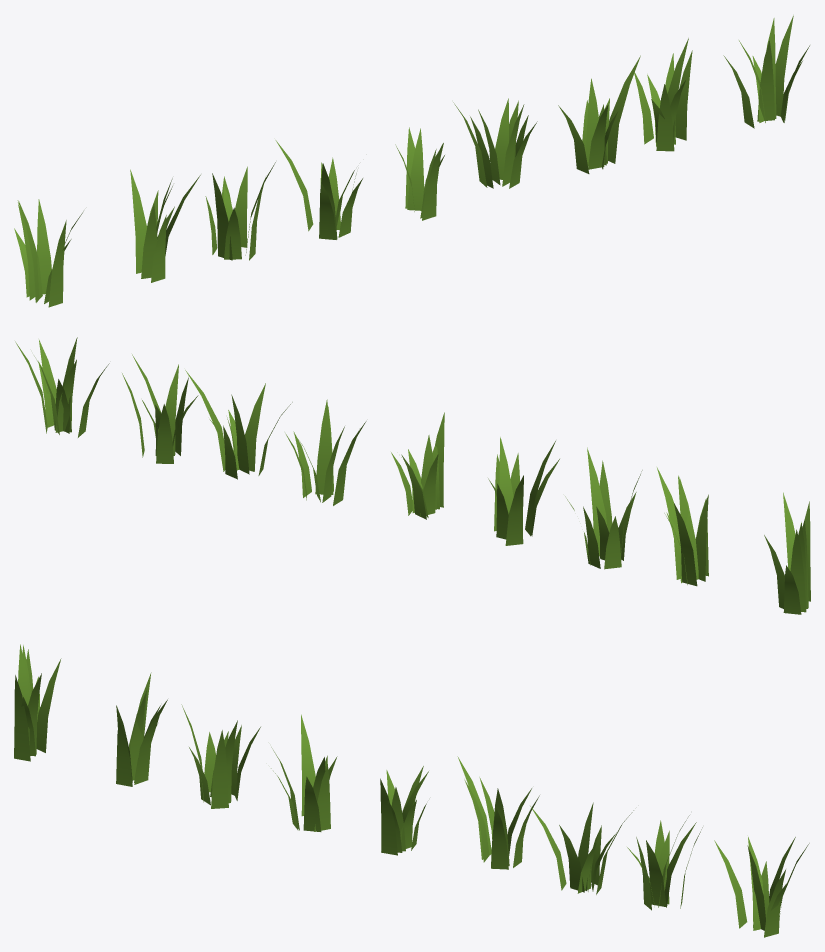
File: PLANT_Grass_Strip_2.glb
3 views of the same model, one above another, from view 1: azimuth 30°, elevation 25°; view 2: azimuth 150°, elevation 25°; view 3: azimuth 330°, elevation 25° (orthographic).
Visible parts, largest first — view 1: PLANT_Grass_Strip_2; view 2: PLANT_Grass_Strip_2; view 3: PLANT_Grass_Strip_2.
Boxes of the visible parts, x1,y1,x2,y2 form: PLANT_Grass_Strip_2: [14, 15, 809, 307]; PLANT_Grass_Strip_2: [15, 337, 810, 614]; PLANT_Grass_Strip_2: [14, 644, 809, 937].
Size of the model in its own units: 2 by 0.2403 by 0.2012.
